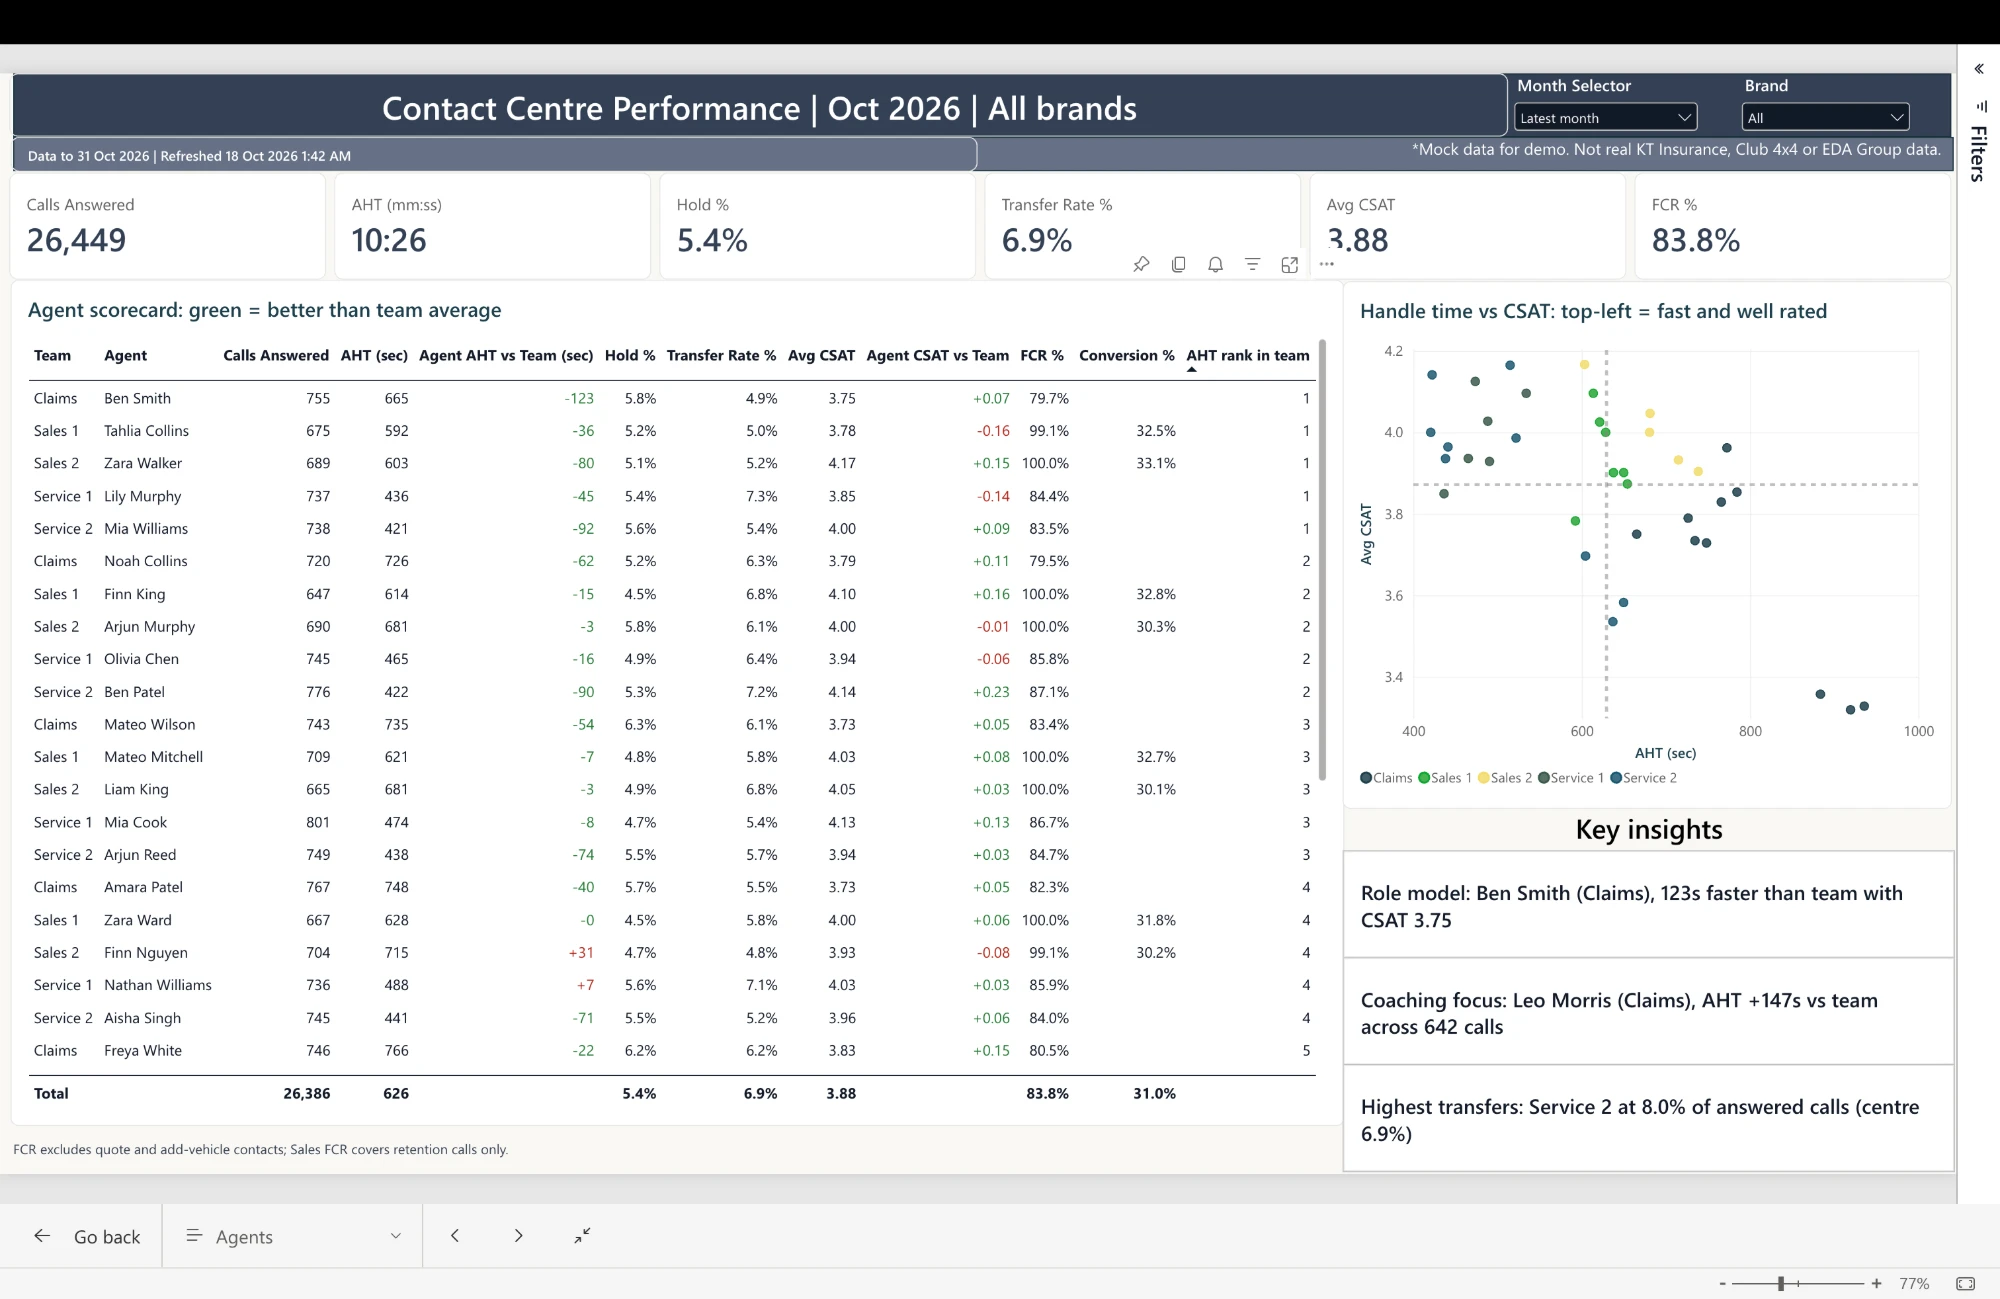

What the dashboard file says about the page in this screenshot:
{"tool":"powerbi","page":{"name":"Agents","canvas":[1920,1080],"ordinal":2},"visuals":[{"type":"shape","title":"Accent Bg","box":[13.4,62.5,1904.4,33.5],"z":0},{"type":"shape","title":"Header Bg","box":[13.4,0,1902.1,62.5],"z":1000},{"type":"slicer","fields":{"Values":["Date.Month Selector"]},"box":[1481,0,190,62.7],"z":2000},{"type":"slicer","fields":{"Values":["Queue.Brand"]},"box":[1704.2,0,175.2,62.7],"z":3000},{"type":"cardVisual","fields":{"Data":["Calls.Report Title"]},"box":[9.2,0,1471.8,62.7],"z":4000},{"type":"cardVisual","fields":{"Data":["Calls.Data As At"]},"box":[10.1,62.3,949.3,34.2],"z":5000},{"type":"cardVisual","fields":{"Data":["Calls.Calls Answered","Calls.AHT (mm:ss)","Calls.Hold %","Calls.Transfer Rate %","Surveys.Avg CSAT","Interactions.FCR %"]},"box":[9.2,97.8,1907.1,105.1],"z":6000},{"type":"tableEx","title":"Agent scorecard: green = better than team average","fields":{"Values":["Agent.Team","Agent.Agent","Calls.Calls Answered","Calls.AHT (sec)","Agent.Agent AHT vs Team (sec)","Calls.Hold %","Calls.Transfer Rate %","Surveys.Avg CSAT","Agent.Agent CSAT vs Team","Interactions.FCR %","Interactions.Conversion %","Agent.Agent AHT Rank"]},"box":[10,202.6,1308.8,830.4],"z":7000},{"type":"scatterChart","title":"Handle time vs CSAT: top-left = fast and well rated","fields":{"Category":["Agent.Agent"],"Series":["Agent.Team"],"X":["Calls.AHT (sec)"],"Y":["Surveys.Avg CSAT"]},"box":[1318.1,203.8,598.1,518.1],"z":8000},{"type":"cardVisual","title":"Key insights","fields":{"Data":["Calls.Agent Role Model","Calls.Agent Coaching Focus","Calls.Highest Transfer Team"]},"box":[1318.1,721.9,601.9,358.1],"z":9000},{"type":"textbox","box":[13.3,1046.4,695.9,21.6],"z":10000},{"type":"textbox","box":[961.3,62.3,943.2,34.2],"z":10001}]}

Visuals, with their boxes on the page's 1920x1080 design canvas (x1, y1, x2, y2). These are canvas units, not pixel positions in the 2000x1299 screenshot, which may show the page scaled, cropped or inside an application window:
"Accent Bg" shape: 13:62:1918:96
"Header Bg" shape: 13:0:1916:62
slicer - Date.Month Selector: 1481:0:1671:63
slicer - Queue.Brand: 1704:0:1879:63
cardVisual - Calls.Report Title: 9:0:1481:63
cardVisual - Calls.Data As At: 10:62:959:96
cardVisual - Calls.Calls Answered x Calls.AHT (mm:ss): 9:98:1916:203
"Agent scorecard: green = better than team average" tableEx: 10:203:1319:1033
"Handle time vs CSAT: top-left = fast and well rated" scatterChart: 1318:204:1916:722
"Key insights" cardVisual: 1318:722:1920:1080
textbox: 13:1046:709:1068
textbox: 961:62:1904:96
